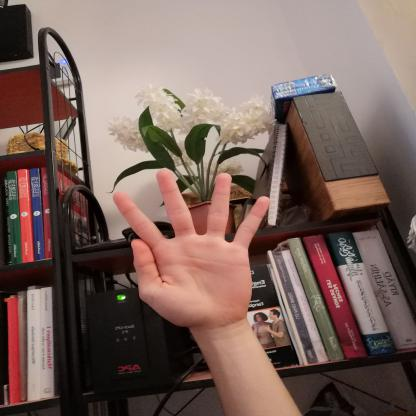SHEEN: (106, 163, 286, 334)
